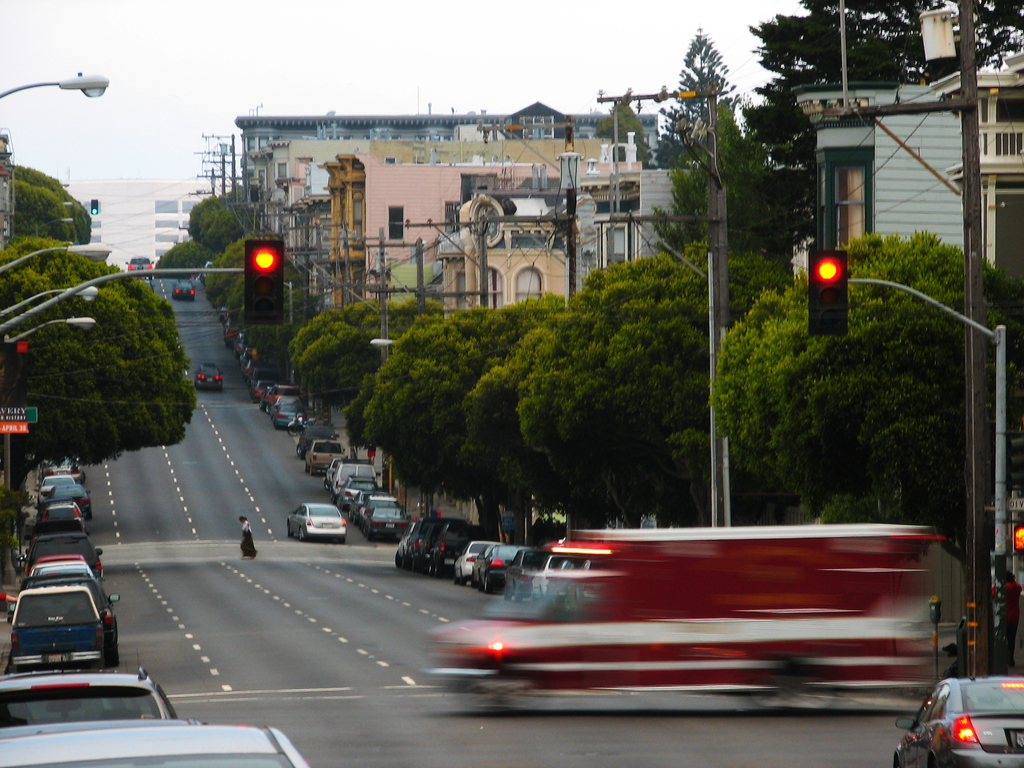red_light: (810, 253, 846, 336), (248, 243, 283, 323)
